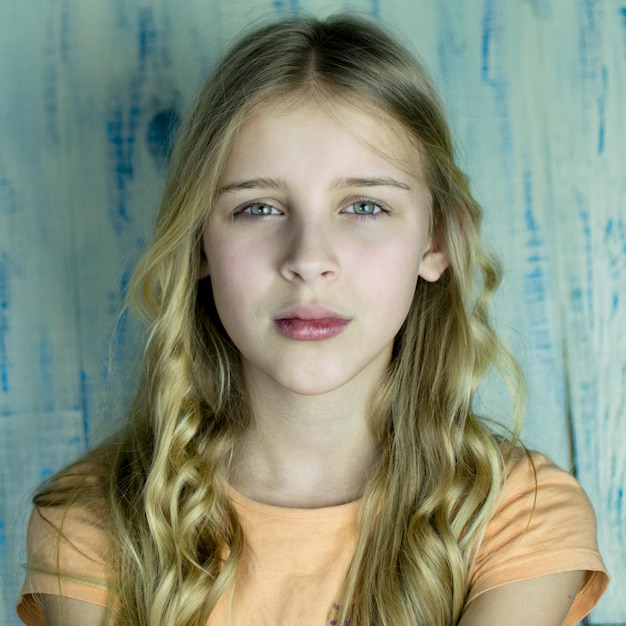teen: (137, 19, 473, 387)
